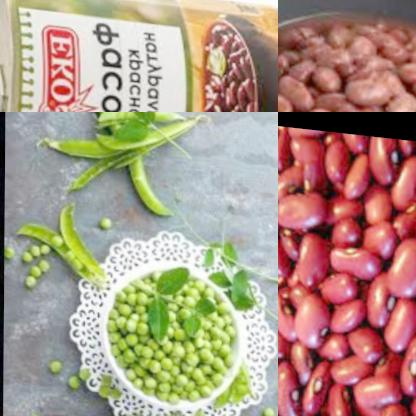fasol: (278, 115, 416, 416), (278, 0, 416, 112), (184, 4, 276, 112)
peas: (111, 270, 240, 406), (42, 112, 214, 208), (13, 198, 110, 284), (32, 394, 185, 416), (5, 232, 64, 288), (43, 358, 109, 389), (95, 207, 124, 237), (257, 375, 278, 415)
